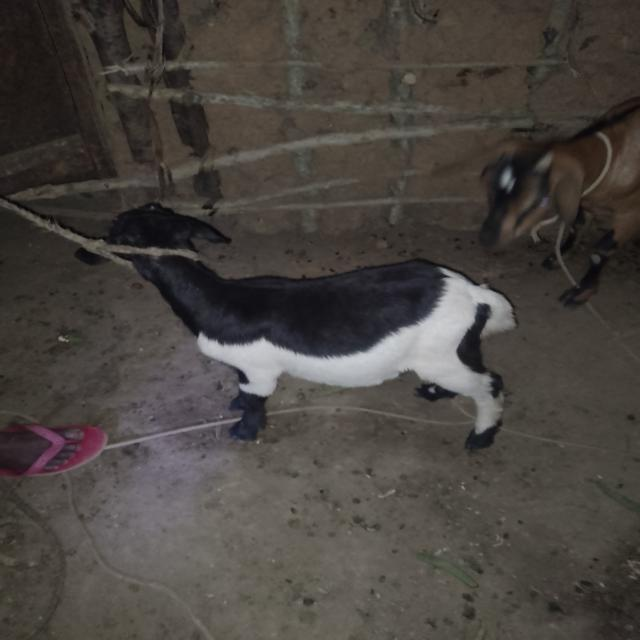goat: (36, 163, 567, 485)
